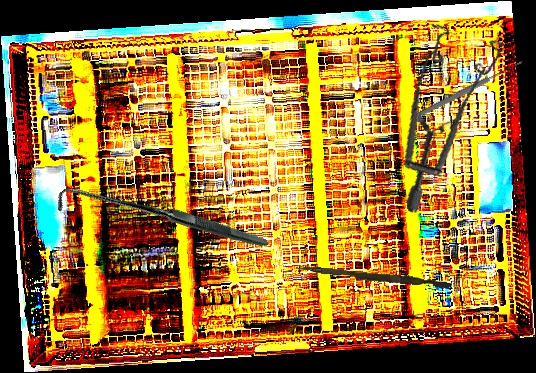Hook Surgical: (50, 111, 270, 332)
Pusher: (294, 265, 451, 289)
Speculum: (379, 11, 527, 215)
Surgical Spoon: (410, 59, 524, 122)
